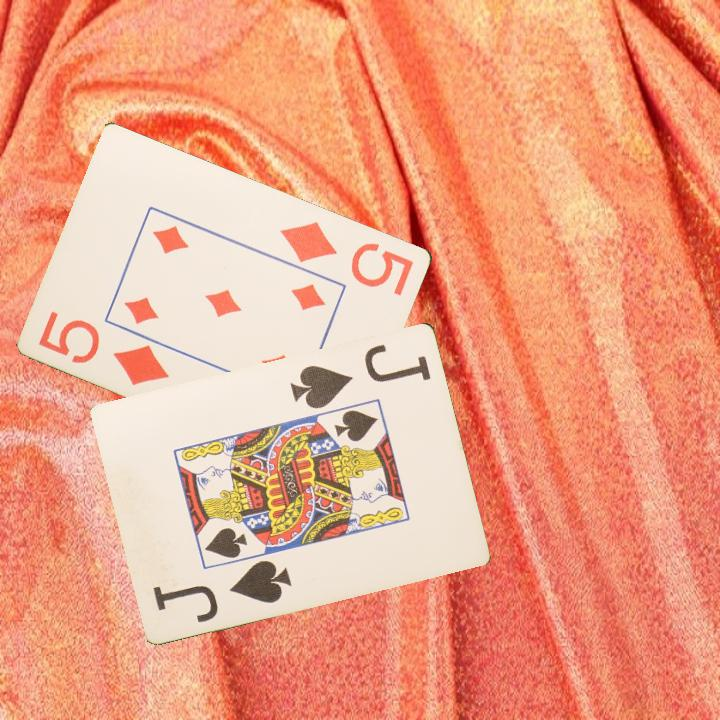5d: (277, 217, 417, 298), (35, 307, 173, 389)
Js: (287, 339, 434, 412), (149, 556, 295, 626)
